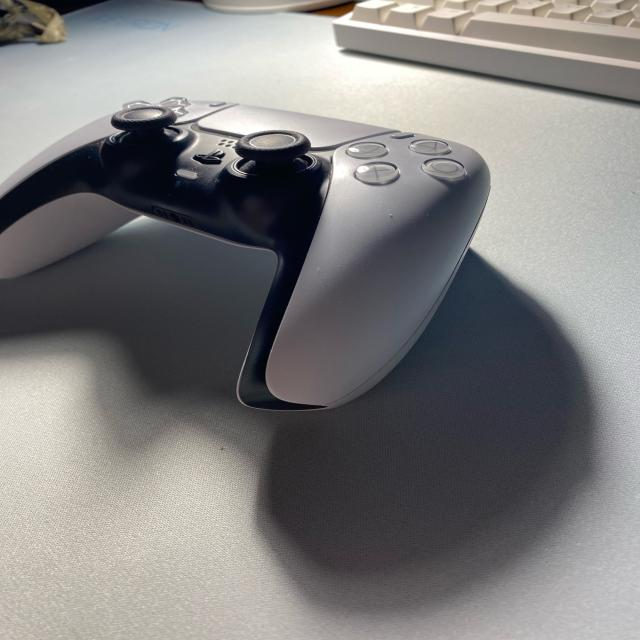dualsensePhoto: (0, 98, 490, 410), (0, 98, 490, 410), (0, 125, 332, 409), (0, 192, 138, 279), (197, 105, 393, 150), (408, 139, 468, 182), (235, 130, 310, 164), (345, 140, 400, 185), (110, 105, 177, 131), (248, 134, 295, 148), (193, 149, 225, 164), (175, 169, 198, 180), (387, 132, 413, 140), (210, 101, 227, 106)
